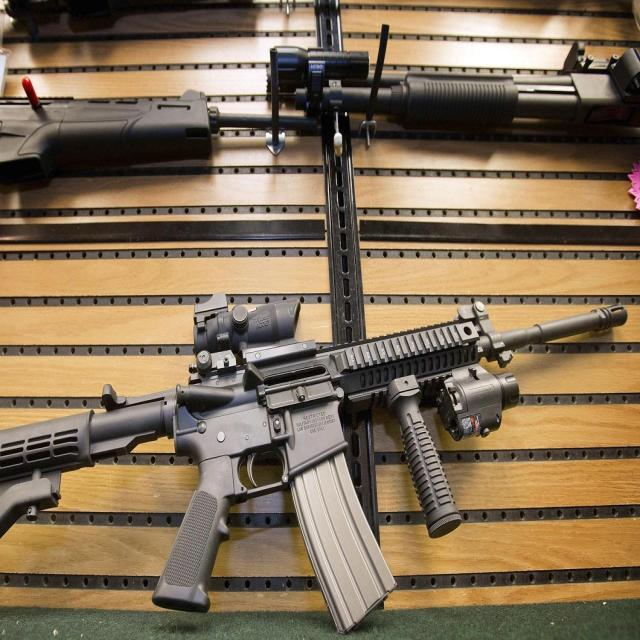Rifle: (0, 296, 629, 634)
